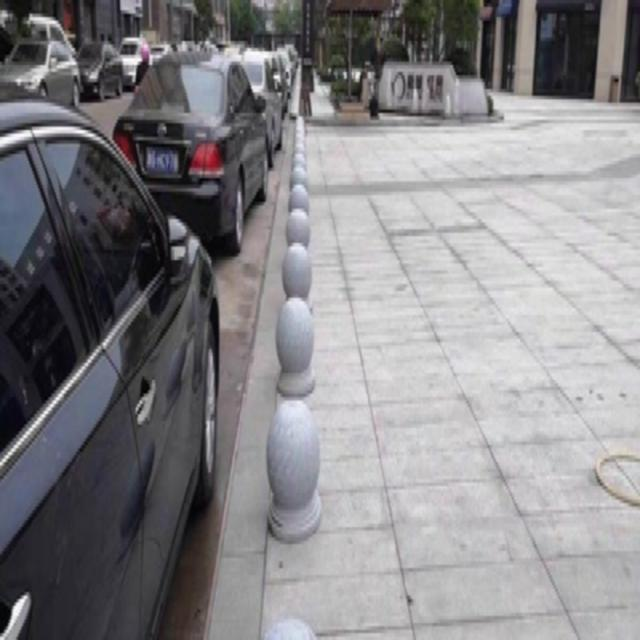car: (0, 89, 218, 637), (107, 45, 272, 254), (0, 34, 80, 106)
spherical_roadblock: (266, 393, 322, 534), (275, 291, 315, 393), (282, 236, 312, 294), (284, 202, 310, 243)
